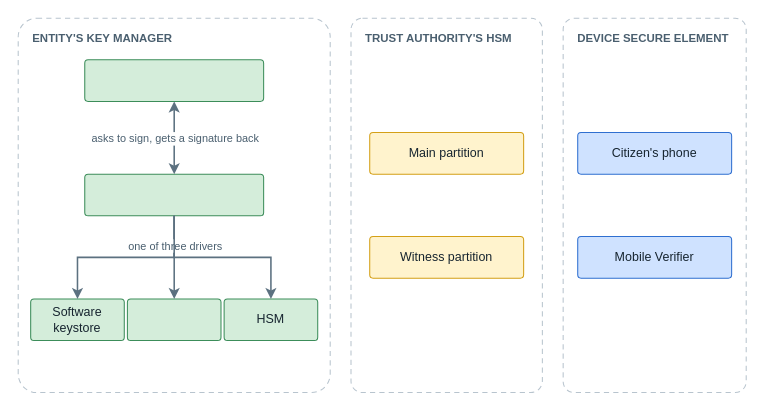
The diagram is 764 pixels wide and 411 high, and some of its shapes have lost their labels. The shapes that lost their labels are listed below. From the top down, each one's centre as x and y in pixels, then its label:
At point 174,80: "Signing Provider".
At point 174,194: "Key Manager".
At point 173,319: "Cloud KMS".
